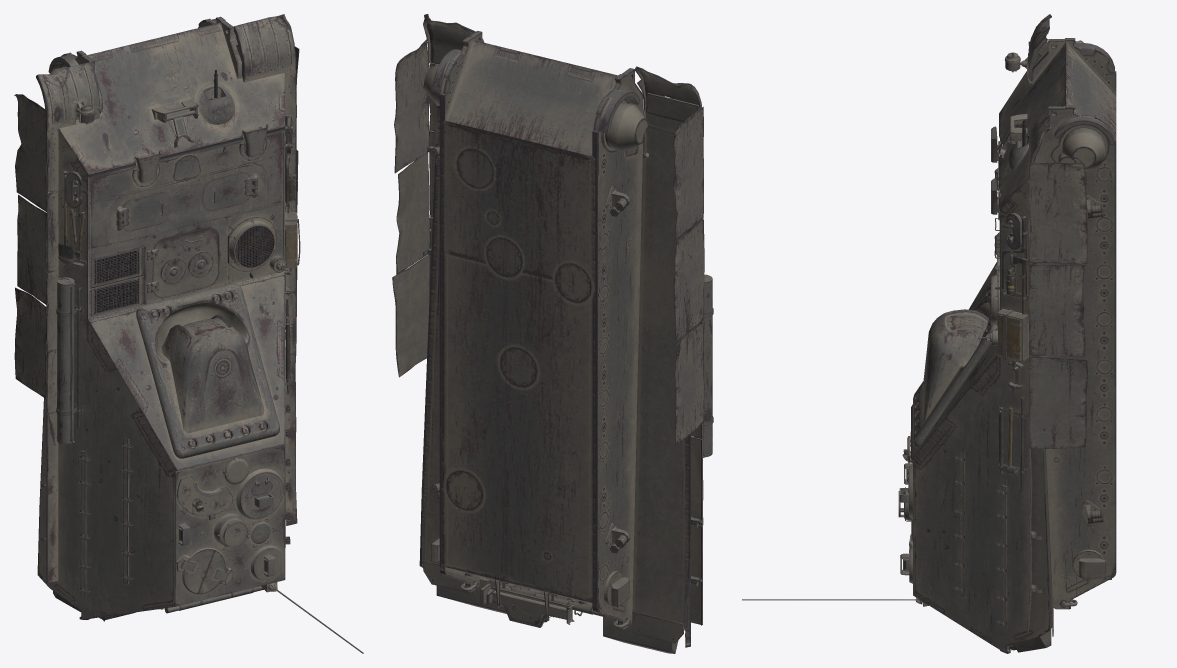
File: Hull.glb
3 views of the same model, side by side, from view 1: azimuth 30°, elevation 25°; view 2: azimuth 150°, elevation 25°; view 3: azimuth 270°, elevation 25° (orthographic). The views are drawn at different scales.
Visible parts, largest first — view 1: set_0_group_0; view 2: set_0_group_0; view 3: set_0_group_0.
Part boxes in pixels (box(x1,y1,x2,y2)): set_0_group_0: box(14, 14, 363, 653); set_0_group_0: box(392, 14, 713, 653); set_0_group_0: box(742, 14, 1116, 653).
Size of the model in its own units: 3.44 by 6.88 by 4.84.
1 material, 1 textured.
